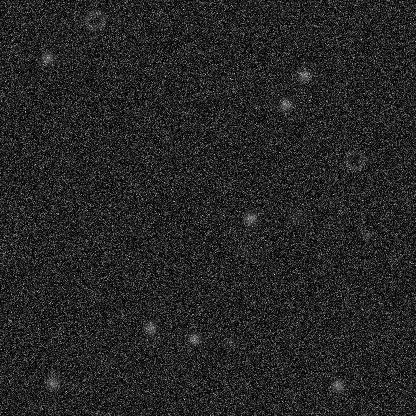Ring: (341, 148, 365, 172), (82, 7, 106, 31)
Spot: (44, 374, 60, 390), (185, 330, 201, 346), (219, 334, 235, 350), (142, 319, 158, 335), (296, 67, 312, 83), (39, 49, 55, 65), (242, 210, 258, 226), (359, 226, 375, 242), (330, 377, 346, 393), (236, 241, 252, 257), (317, 257, 333, 273), (287, 209, 303, 225), (277, 96, 293, 112)
